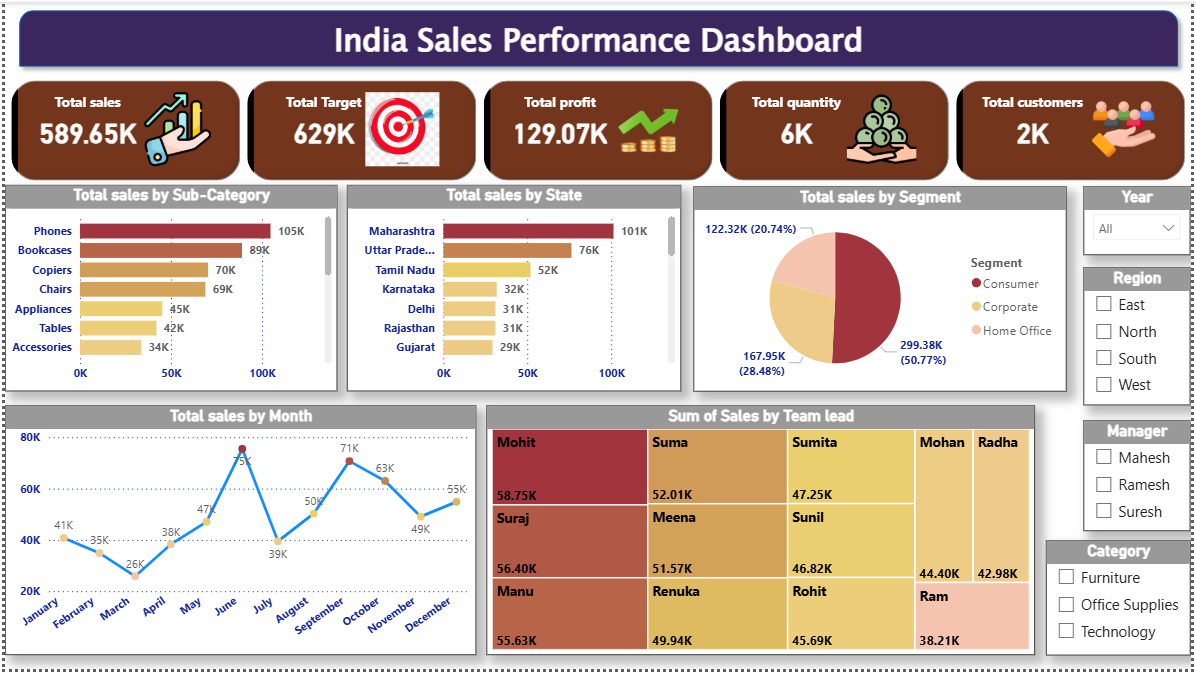

This screenshot's page, from the dashboard's own definition file:
{"tool":"powerbi","page":{"name":"Dashboard","canvas":[1280,720],"ordinal":0},"visuals":[{"type":"shape","box":[6.1,0,1268.9,78.7],"z":0},{"type":"cardVisual","fields":{"Data":["India_Data.Total sales","India_Data.Total Target","India_Data.Total profit","India_Data.Total quantity","India_Data.Total customer"]},"box":[1.5,78.7,1278,118.1],"z":1000},{"type":"barChart","fields":{"Y":["India_Data.Total sales"],"Category":["India_Data.Sub-Category"]},"box":[0,196.8,358.9,222.6],"z":2000},{"type":"barChart","fields":{"Y":["India_Data.Total sales"],"Category":["India_Data.State"]},"box":[369.5,196.8,360.4,222.6],"z":3000},{"type":"pieChart","fields":{"Y":["India_Data.Total sales"],"Category":["India_Data.Segment"]},"box":[743.5,198.4,402.8,221.1],"z":4000},{"type":"lineChart","fields":{"Y":["India_Data.Total sales"],"Category":["India_Data.Order Date.Variation.Date Hierarchy.Month"]},"box":[0,436.1,508.8,269.5],"z":5000},{"type":"slicer","title":"Year","fields":{"Values":["India_Data.Order Date.Variation.Date Hierarchy.Year","India_Data.Order Date.Variation.Date Hierarchy.Quarter"]},"box":[1164.4,198.4,115.1,74.2],"z":6000},{"type":"treemap","fields":{"Group":["India_Data.Team lead"],"Values":["Sum(India_Data.Sales)"]},"box":[519.4,436.1,592.1,269.5],"z":7000},{"type":"slicer","title":"Region","fields":{"Values":["India_Data.Region"]},"box":[1164.4,286.2,115.1,148.4],"z":8000},{"type":"slicer","title":"Manager","fields":{"Values":["India_Data.Manager"]},"box":[1164.4,451.2,115.1,119.6],"z":9000},{"type":"slicer","title":"Category","fields":{"Values":["India_Data.Category"]},"box":[1123.5,581.5,156,124.2],"z":10000}]}

Visuals, with their boxes in screenshot pixels (x1, y1, x2, y2), scaled from the page's 1280x720 canvas onto the 1196x675 screenshot:
shape: 6, 0, 1191, 74
cardVisual - India_Data.Total sales x India_Data.Total Target: 1, 74, 1195, 184
barChart - India_Data.Total sales x India_Data.Sub-Category: 0, 184, 335, 393
barChart - India_Data.Total sales x India_Data.State: 345, 184, 682, 393
pieChart - India_Data.Total sales x India_Data.Segment: 695, 186, 1071, 393
lineChart - India_Data.Total sales x India_Data.Order Date.Variation.Date Hierarchy.Month: 0, 409, 475, 662
"Year" slicer: 1088, 186, 1195, 256
treemap - India_Data.Team lead x Sum(India_Data.Sales): 485, 409, 1039, 662
"Region" slicer: 1088, 268, 1195, 407
"Manager" slicer: 1088, 423, 1195, 535
"Category" slicer: 1050, 545, 1195, 662
